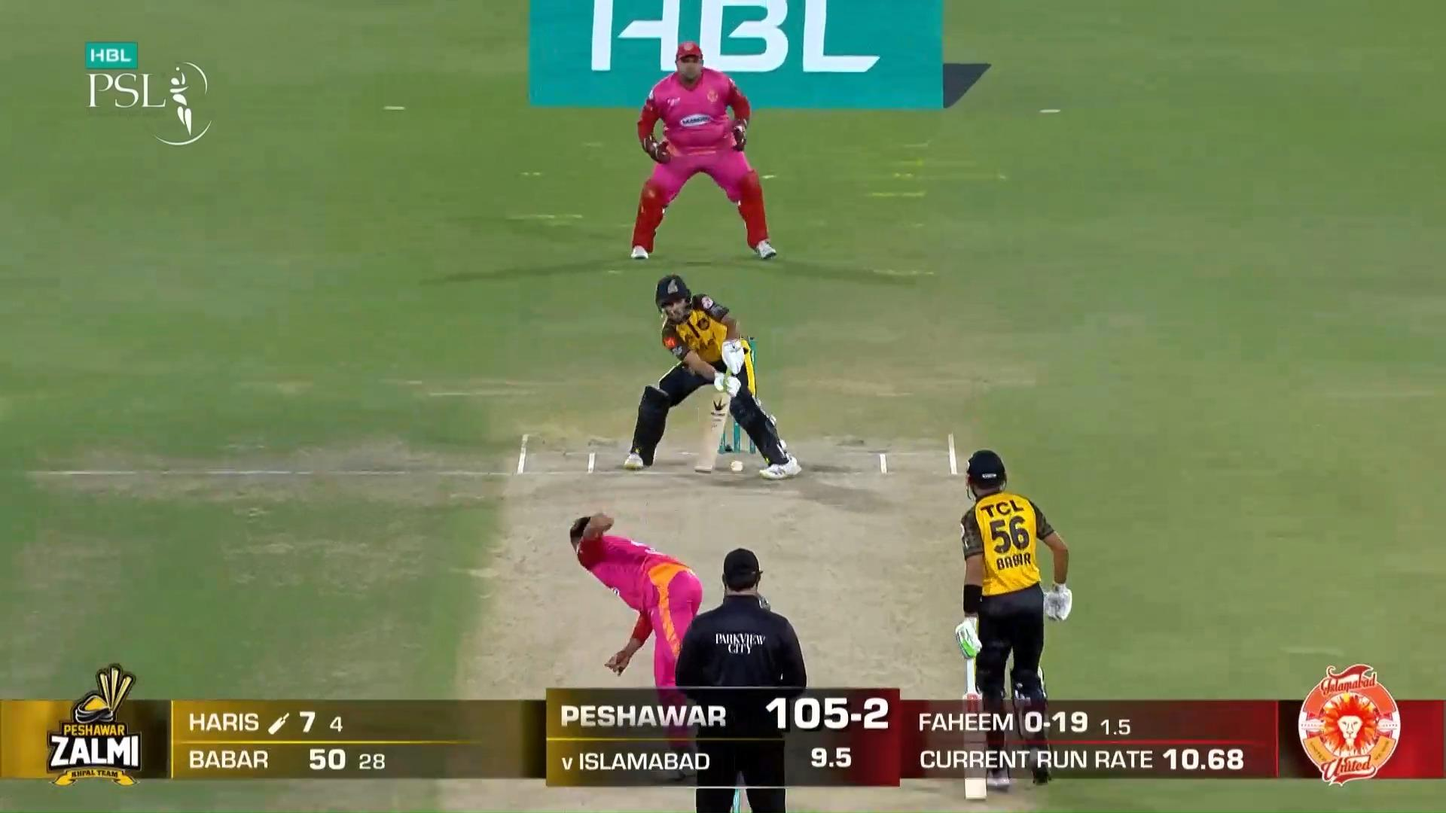batsman: (626, 273, 801, 481)
